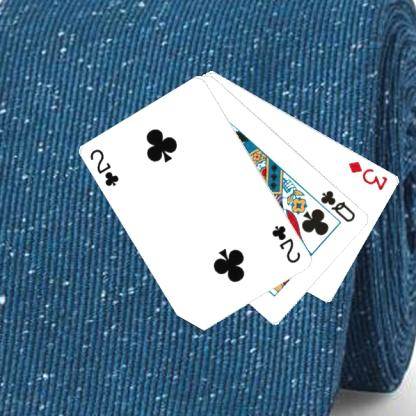2C: (269, 223, 303, 265), (87, 146, 121, 188)
3D: (346, 158, 390, 192)
QC: (318, 188, 357, 224)
